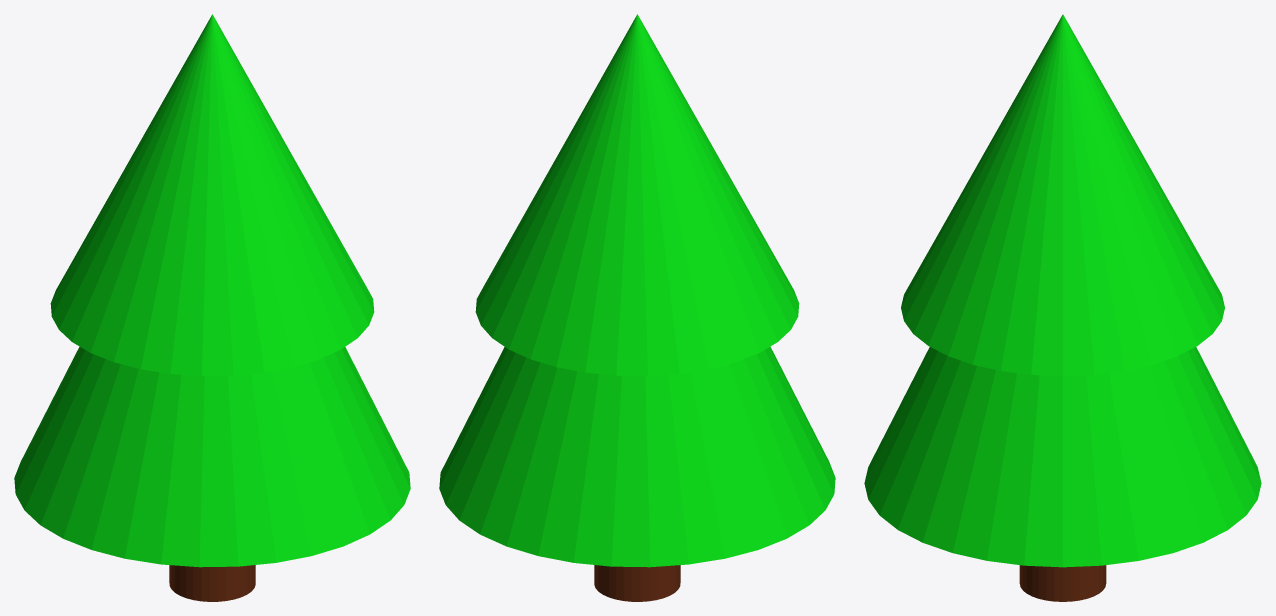
File: Tree_pine_3.fbx
3 views of the same model, side by side, from view 1: azimuth 30°, elevation 25°; view 2: azimuth 150°, elevation 25°; view 3: azimuth 270°, elevation 25° (orthographic).
Visible parts, largest first — view 1: Cone; view 2: Cone; view 3: Cone.
Part boxes in pixels (bbox=[...]): Cone: bbox=[14, 14, 410, 601]; Cone: bbox=[439, 14, 835, 601]; Cone: bbox=[864, 14, 1261, 601].
Size of the model in its own units: 368 by 582 by 368.
